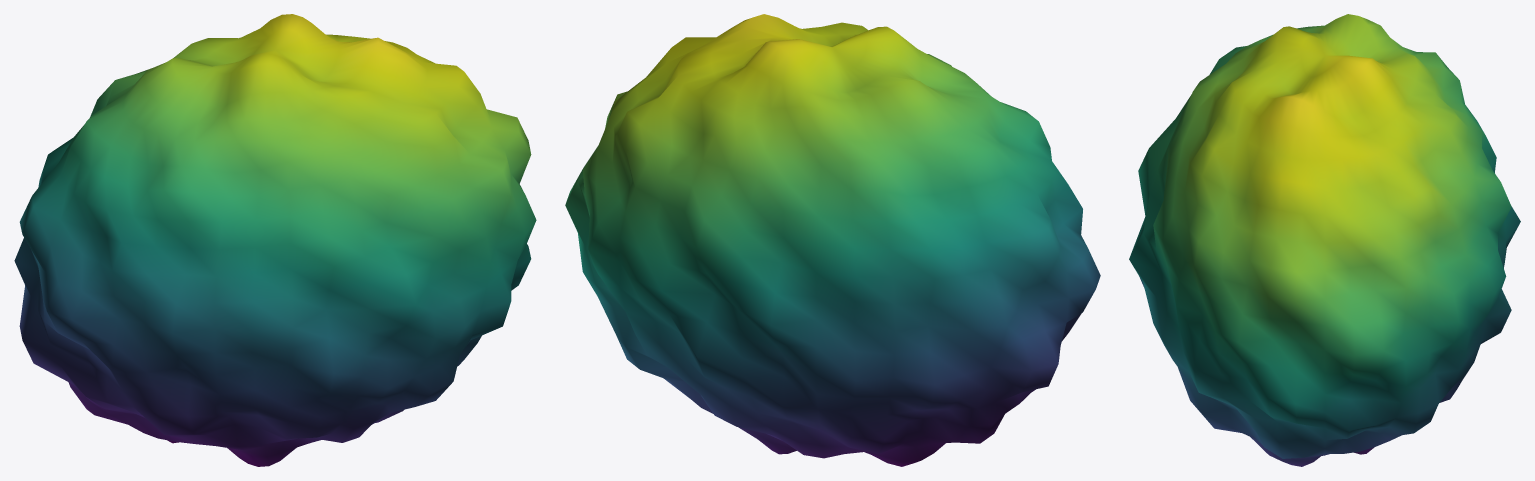
Rendered from continuous-field.glb.
The picture shows the model from 3 angles, left to right: view 1: azimuth 30°, elevation 25°; view 2: azimuth 150°, elevation 25°; view 3: azimuth 270°, elevation 25°; orthographic projection. The views are drawn at different scales.
Parts seen in each view (by area): view 1: height.field; view 2: height.field; view 3: height.field.
Part boxes in pixels (x1,y1,x2,y2): height.field: (14,14,536,466); height.field: (565,14,1100,466); height.field: (1129,14,1520,466).
Bounding box in the file's own units: 2.41 × 1.9 × 1.73.
